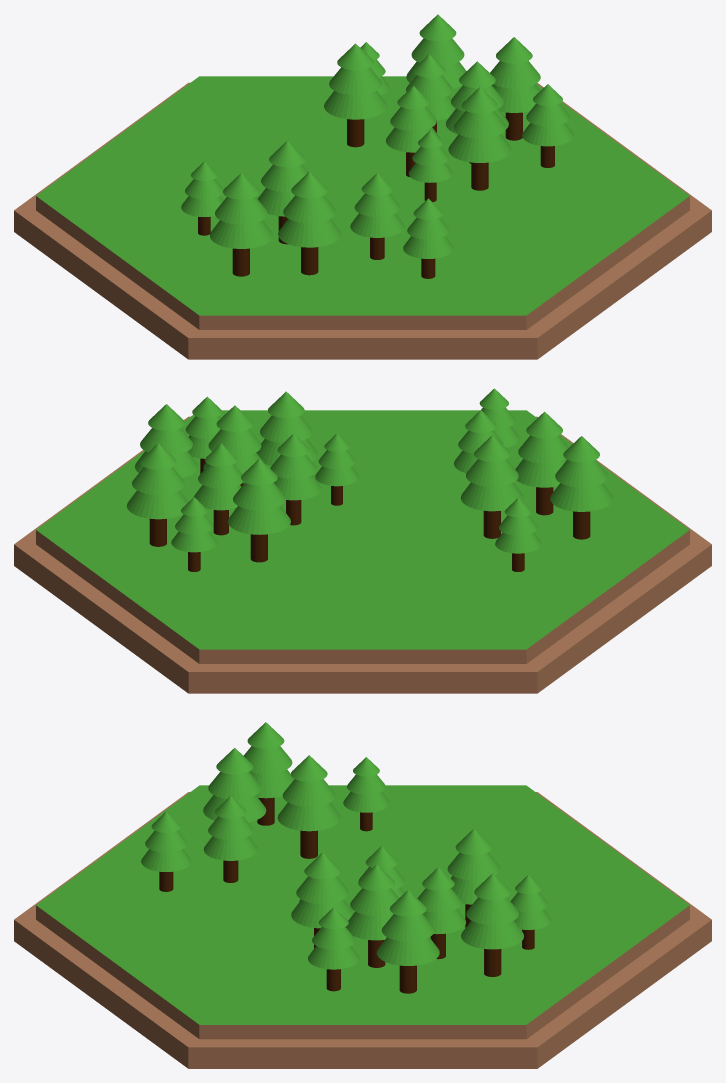
File: HexWald.glb
3 views of the same model, one above another, from view 1: azimuth 30°, elevation 25°; view 2: azimuth 150°, elevation 25°; view 3: azimuth 270°, elevation 25° (orthographic).
Visible parts, largest first — view 1: Wald; view 2: Wald; view 3: Wald.
Boxes of the visible parts, bbox=[...] form: Wald: bbox=[14, 14, 711, 359]; Wald: bbox=[14, 388, 711, 693]; Wald: bbox=[14, 722, 711, 1068].
Bounding box in the file's own units: 6.93 × 1.72 × 8.
